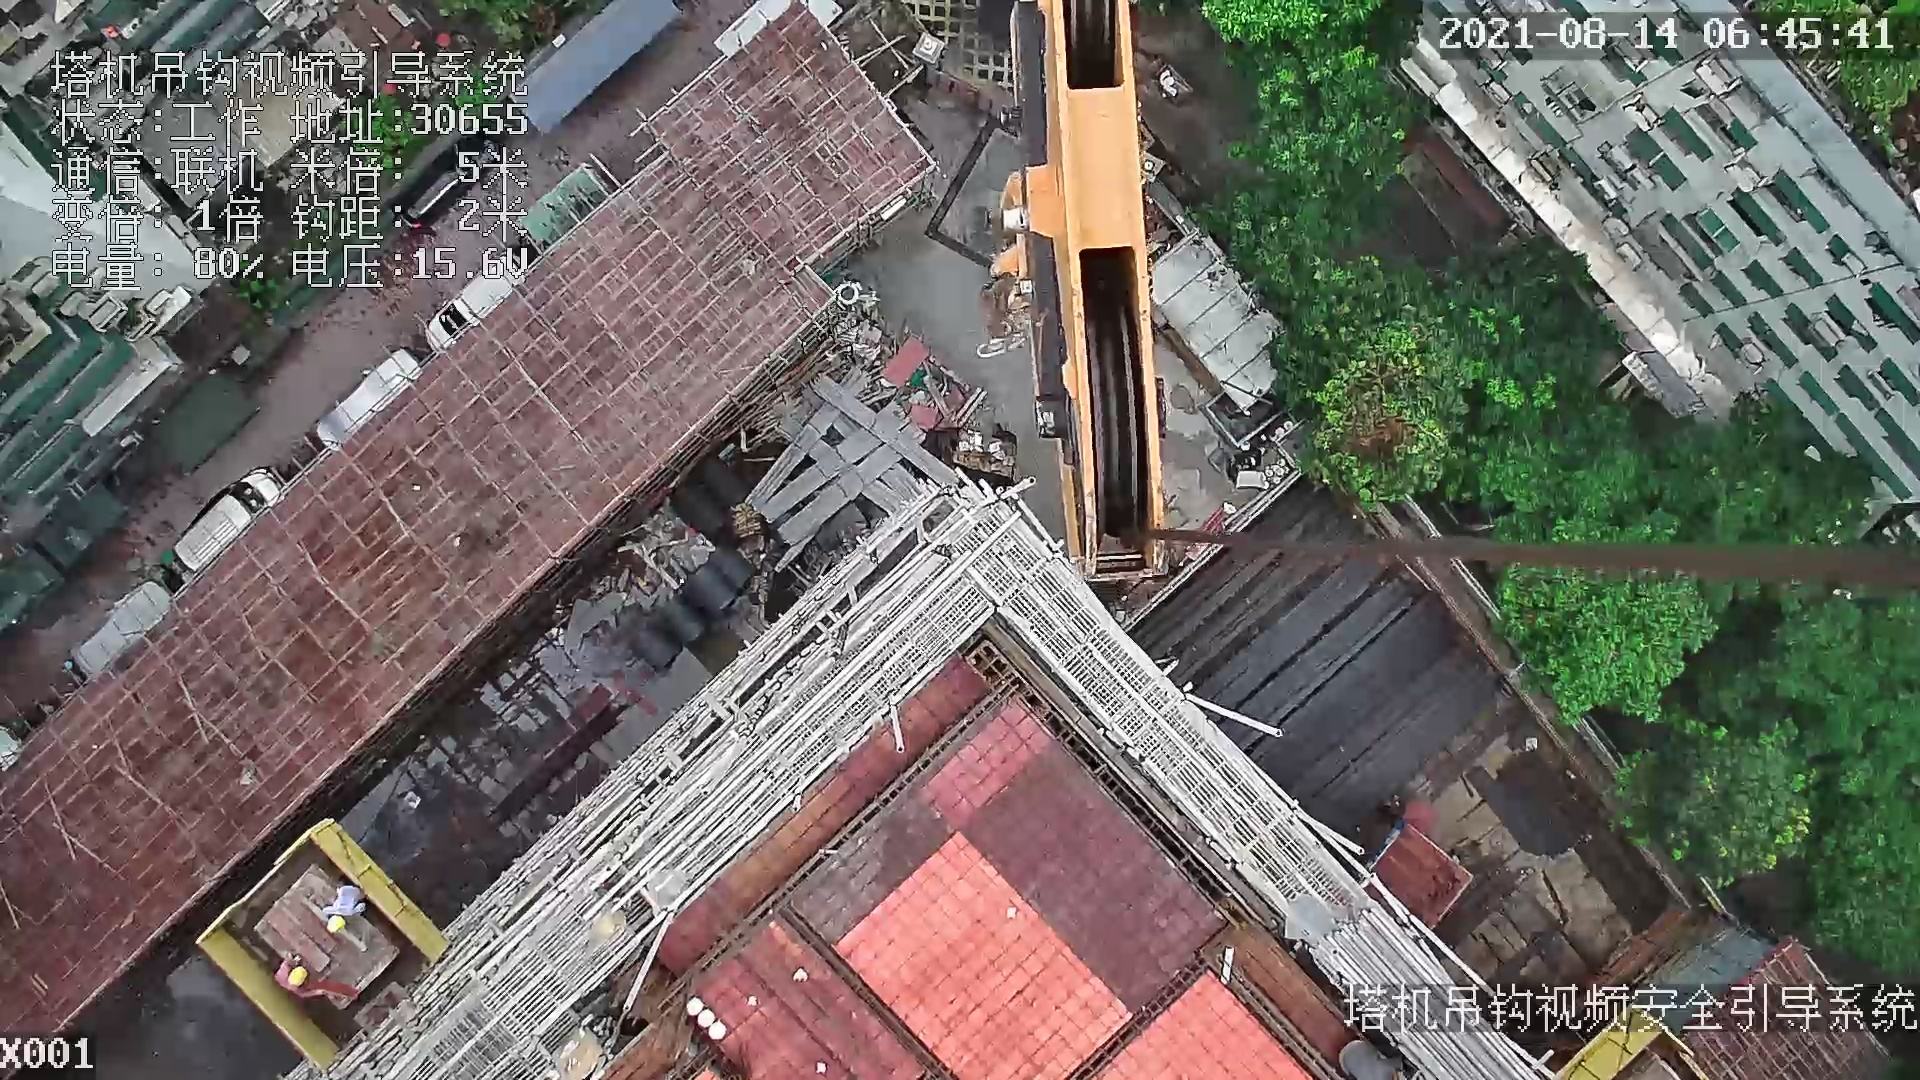helmet: (284, 964, 307, 985), (326, 913, 347, 932)
hook: (994, 1, 1167, 590)
person: (264, 947, 333, 1000), (1333, 1034, 1408, 1078), (319, 881, 374, 939)
